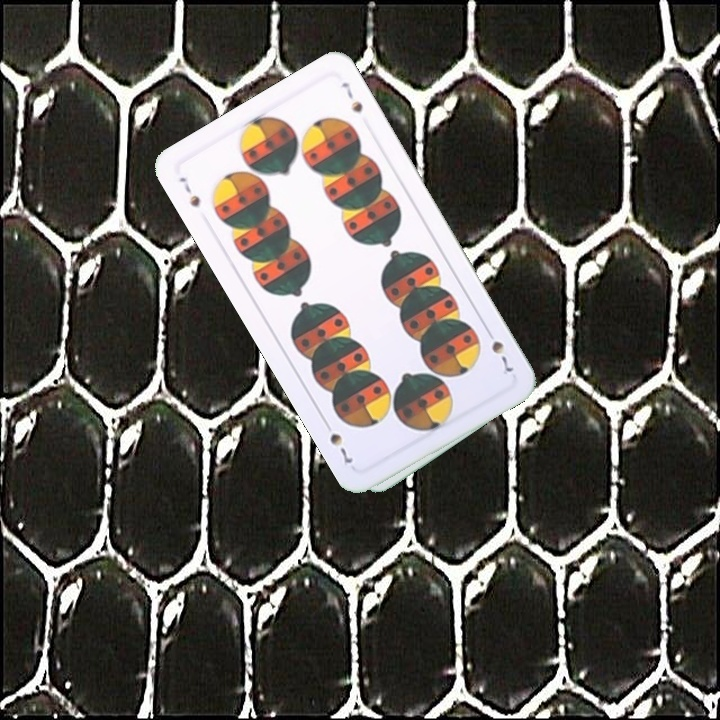S7: (481, 324, 516, 375), (174, 172, 203, 210)
